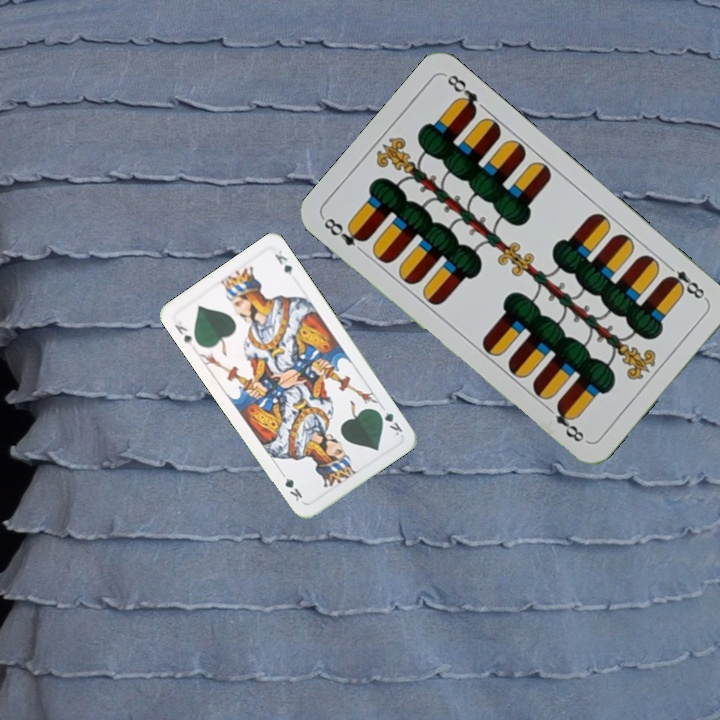E8: (661, 259, 710, 304), (319, 214, 370, 249)
GK: (373, 402, 405, 438), (171, 316, 195, 348)
